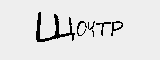О: (76, 21, 88, 35)
Р: (112, 20, 124, 36)
Т: (95, 19, 108, 35)
Ч: (86, 19, 96, 39)
Щ: (34, 14, 76, 41)
